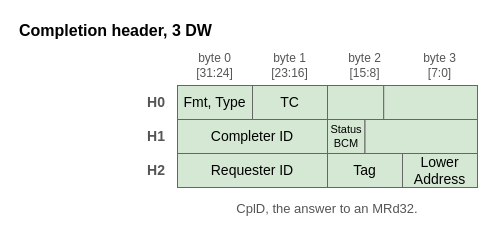
The diagram is 504 pixels wide and 240 high, and some of its shapes have lost their labels. Each missing label, with the box of its shape:
Byte Count: (364, 118, 478, 154)
Length: (383, 84, 478, 120)
TD EP Attr: (326, 84, 384, 120)
